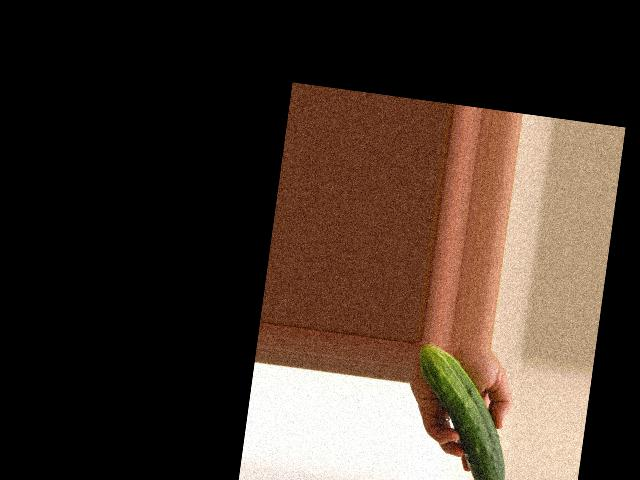cucumber: (402, 343, 520, 480)
